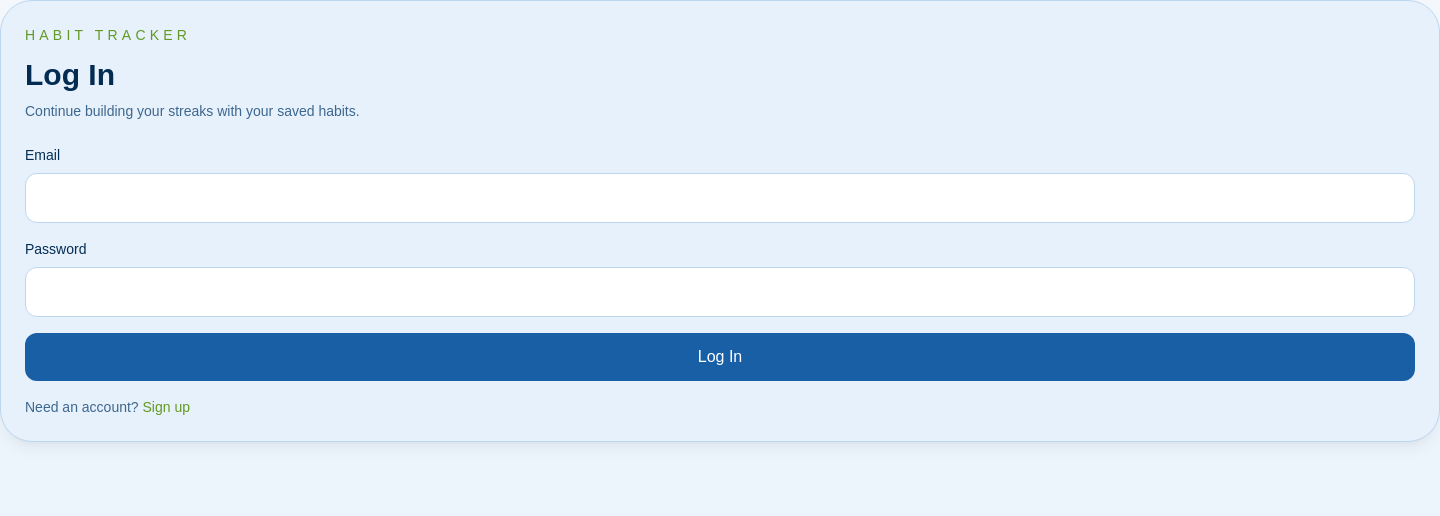
Test: auth flow › shows an error for invalid login credentials
In the field with test id "auth-login-email": (720, 198) [25,173,1415,223], type "member@example.com"
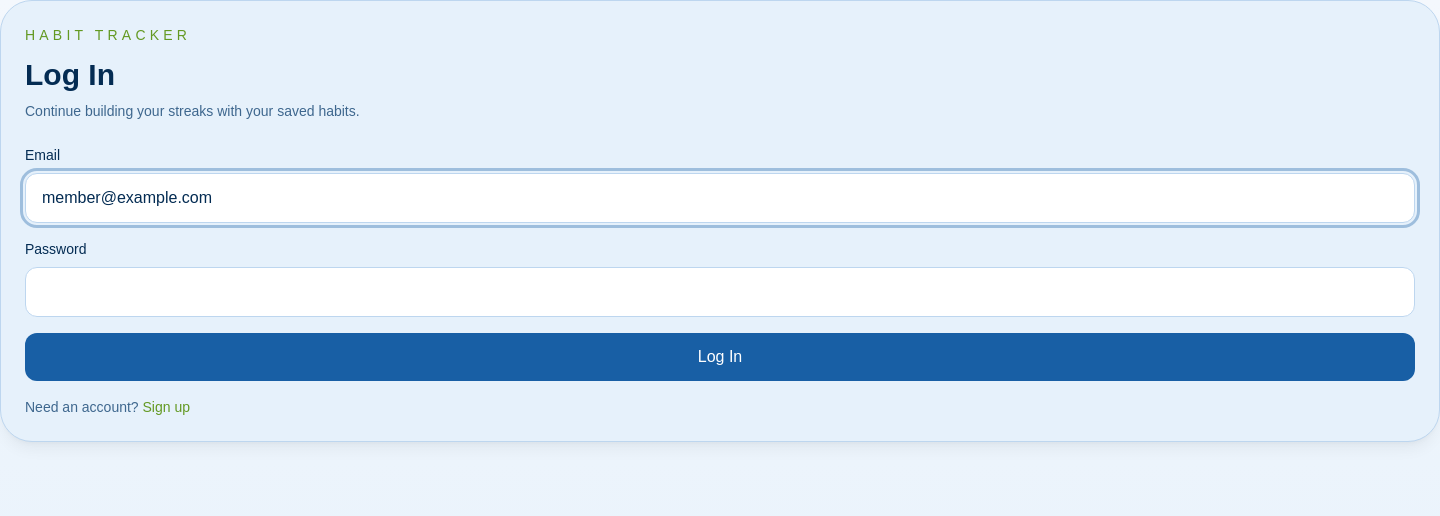
In the password field with test id "auth-login-password": (720, 292) [25,267,1415,317], type "wrong-password"
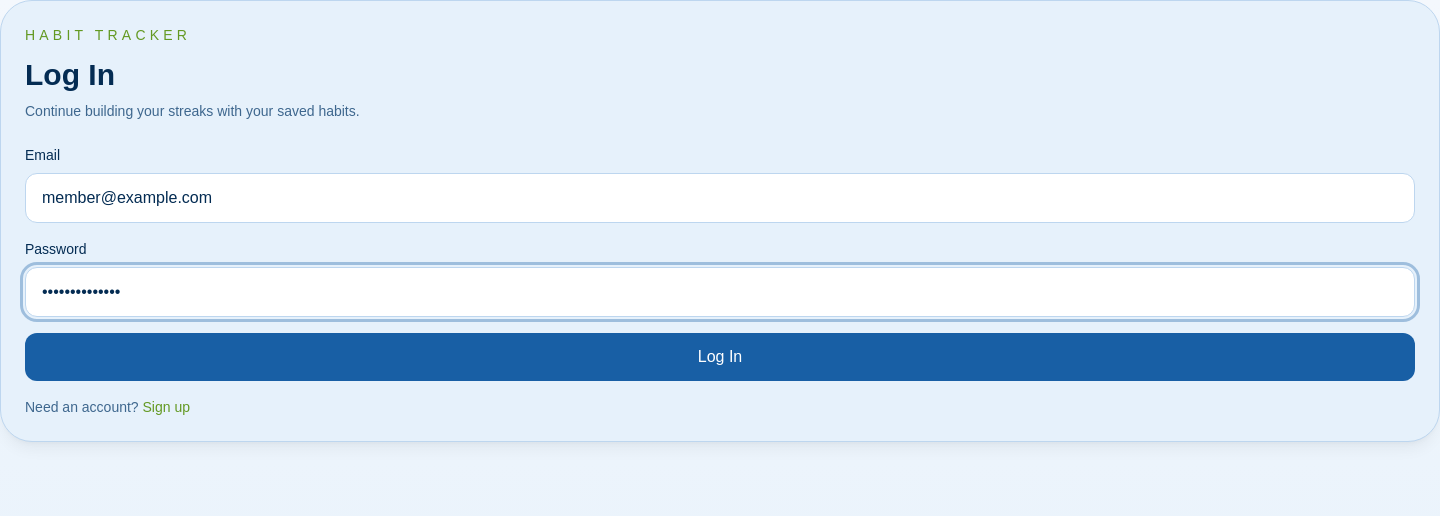
Click the button with test id "auth-login-submit": (720, 357) [25,333,1415,381]
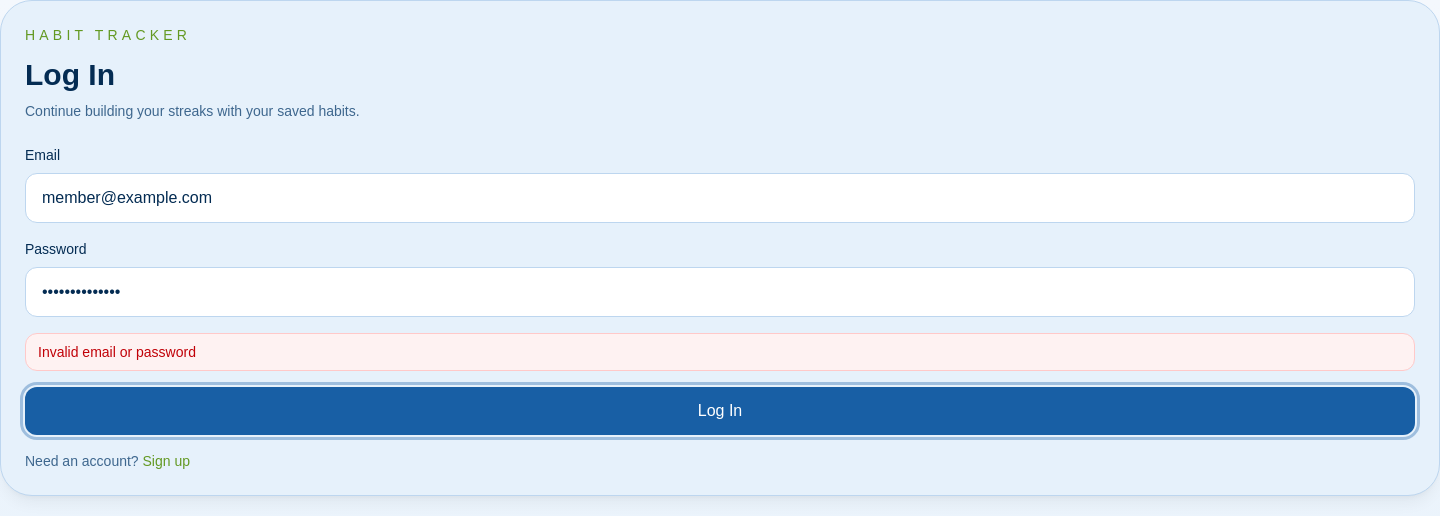
Check: the text "Invalid email or password" is shown, box [25,333,1415,371]
